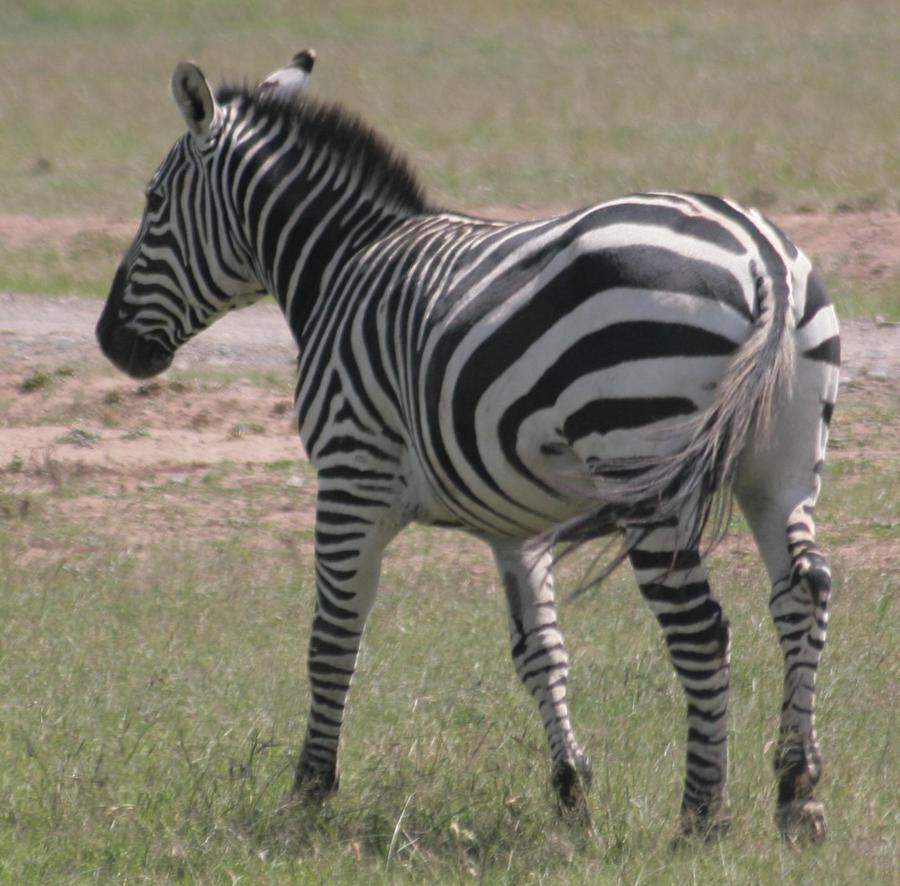zebra_plains: (268, 185, 746, 601)
